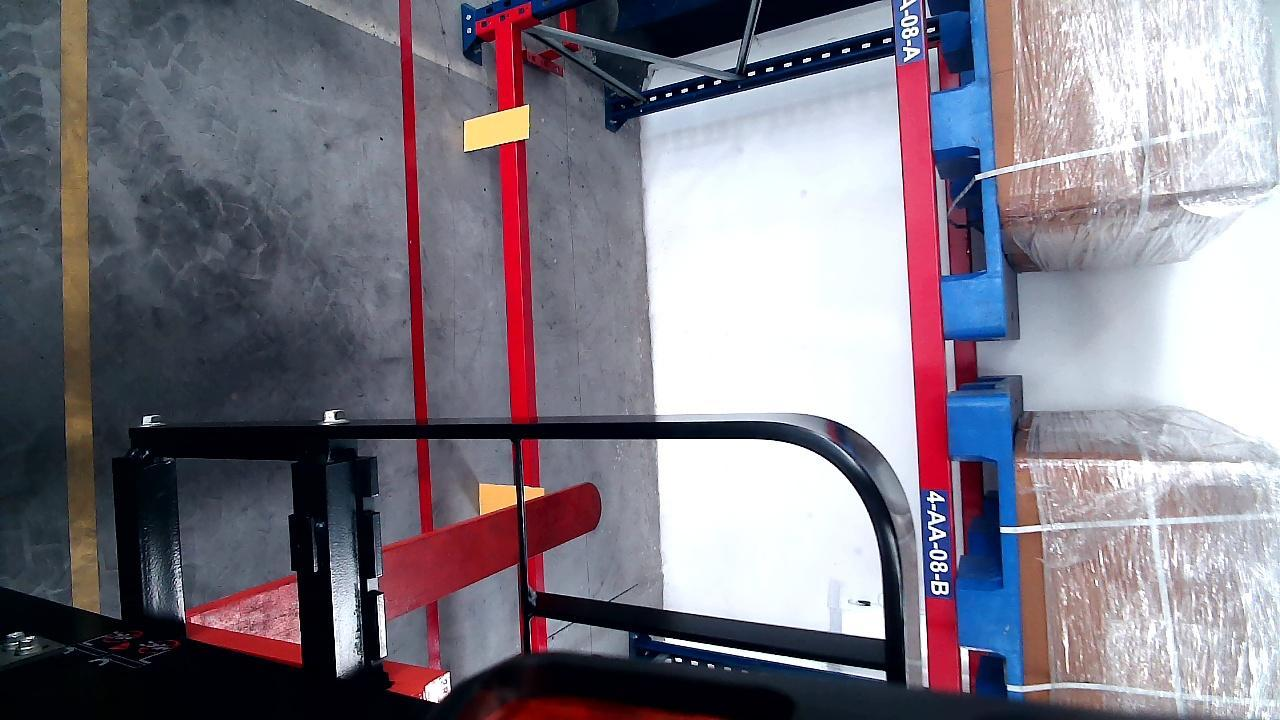red_line: (398, 0, 432, 528)
